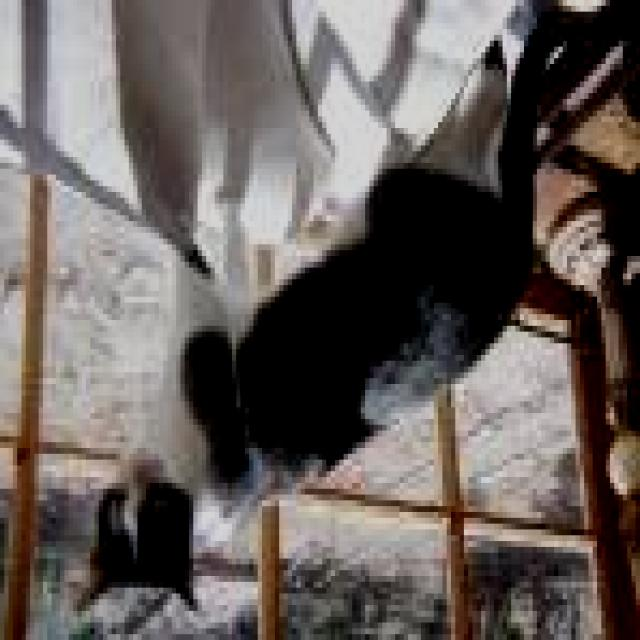Kucing: (47, 106, 511, 597)
